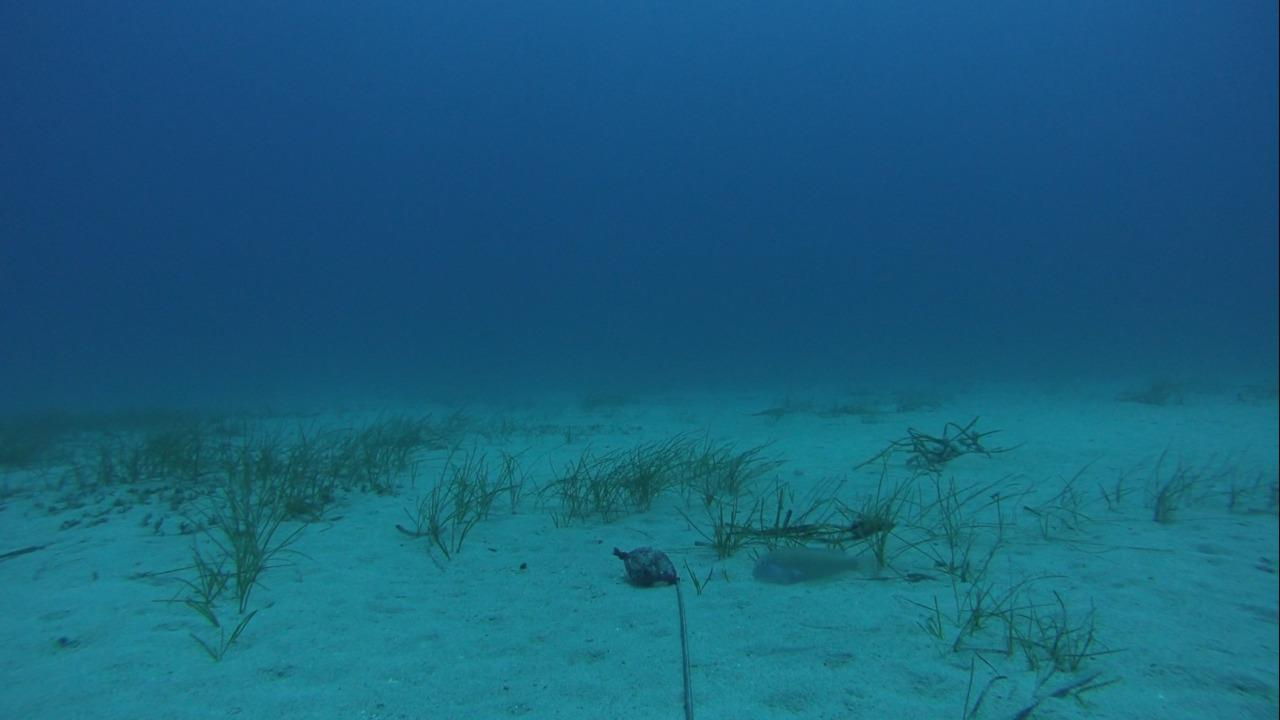raor: (747, 542, 885, 592)
